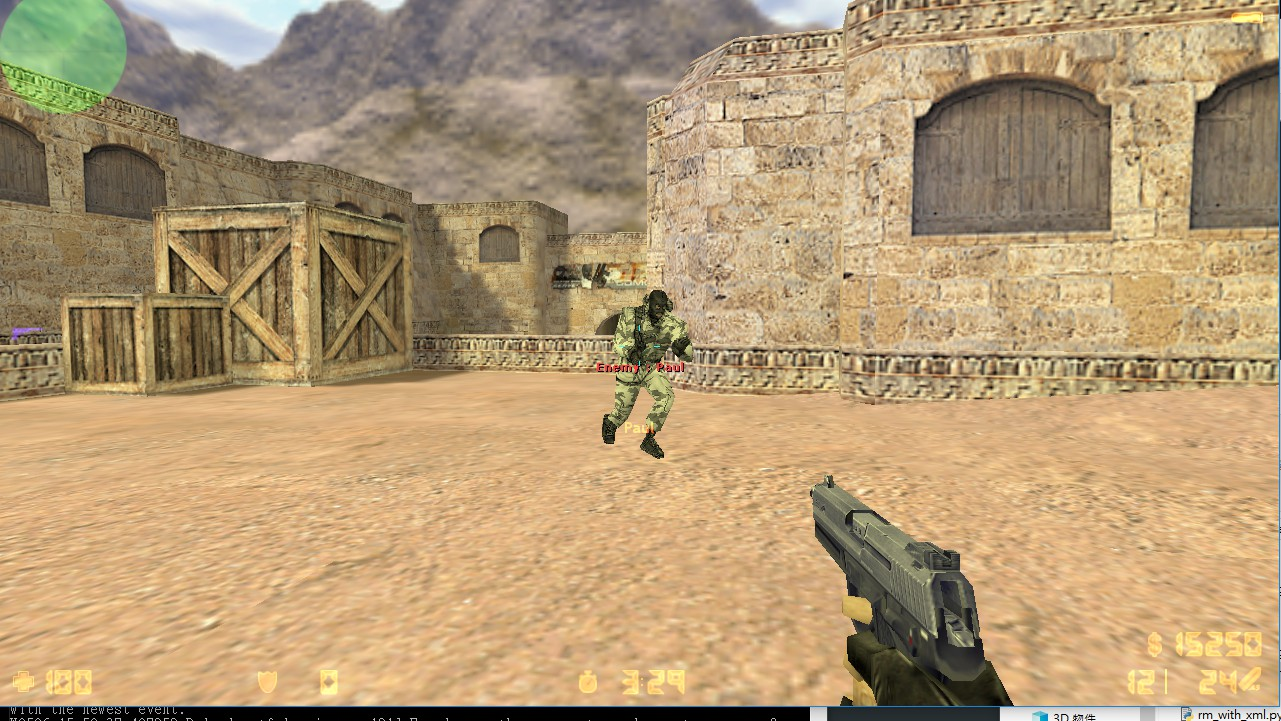person: (603, 286, 691, 472)
